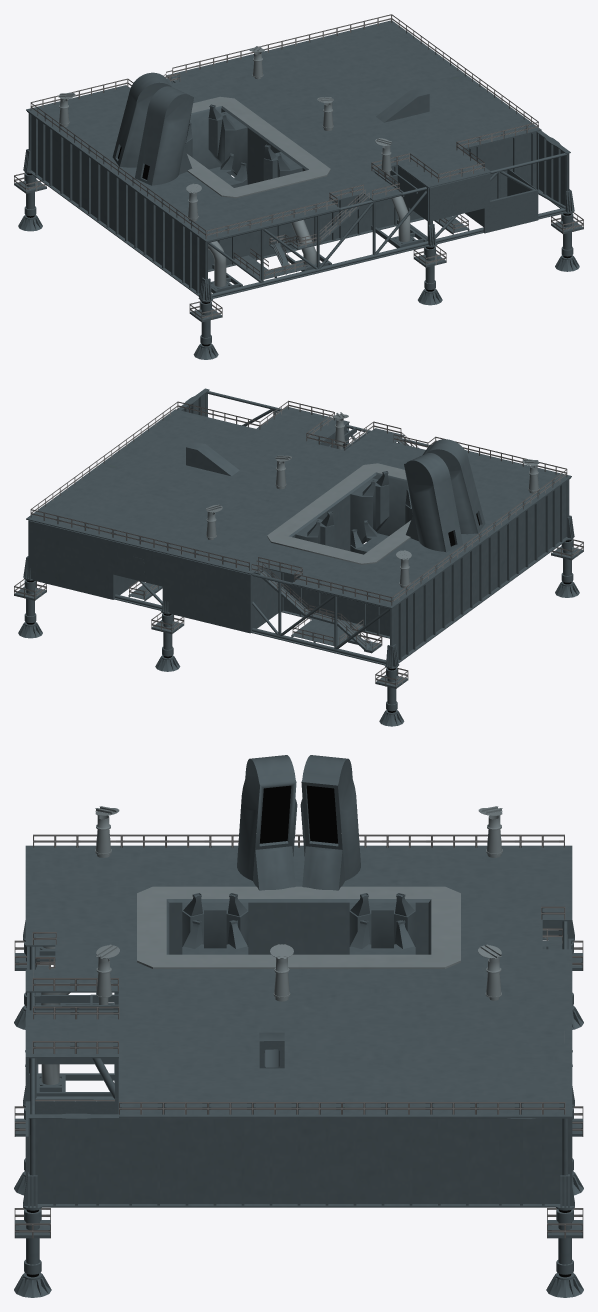
File: MLP1_HP.glb
3 views of the same model, one above another, from view 1: azimuth 30°, elevation 25°; view 2: azimuth 150°, elevation 25°; view 3: azimuth 270°, elevation 25° (orthographic). The views are drawn at different scales.
Parts seen in each view (by area): view 1: MLP-1_HP; view 2: MLP-1_HP; view 3: MLP-1_HP.
Boxes of the visible parts, bbox=[...] form: MLP-1_HP: bbox=[14, 14, 583, 359]; MLP-1_HP: bbox=[14, 388, 583, 726]; MLP-1_HP: bbox=[14, 755, 583, 1297].
Size of the model in its own units: 1.02 by 0.4965 by 0.8672.
2 materials, 2 textured.
